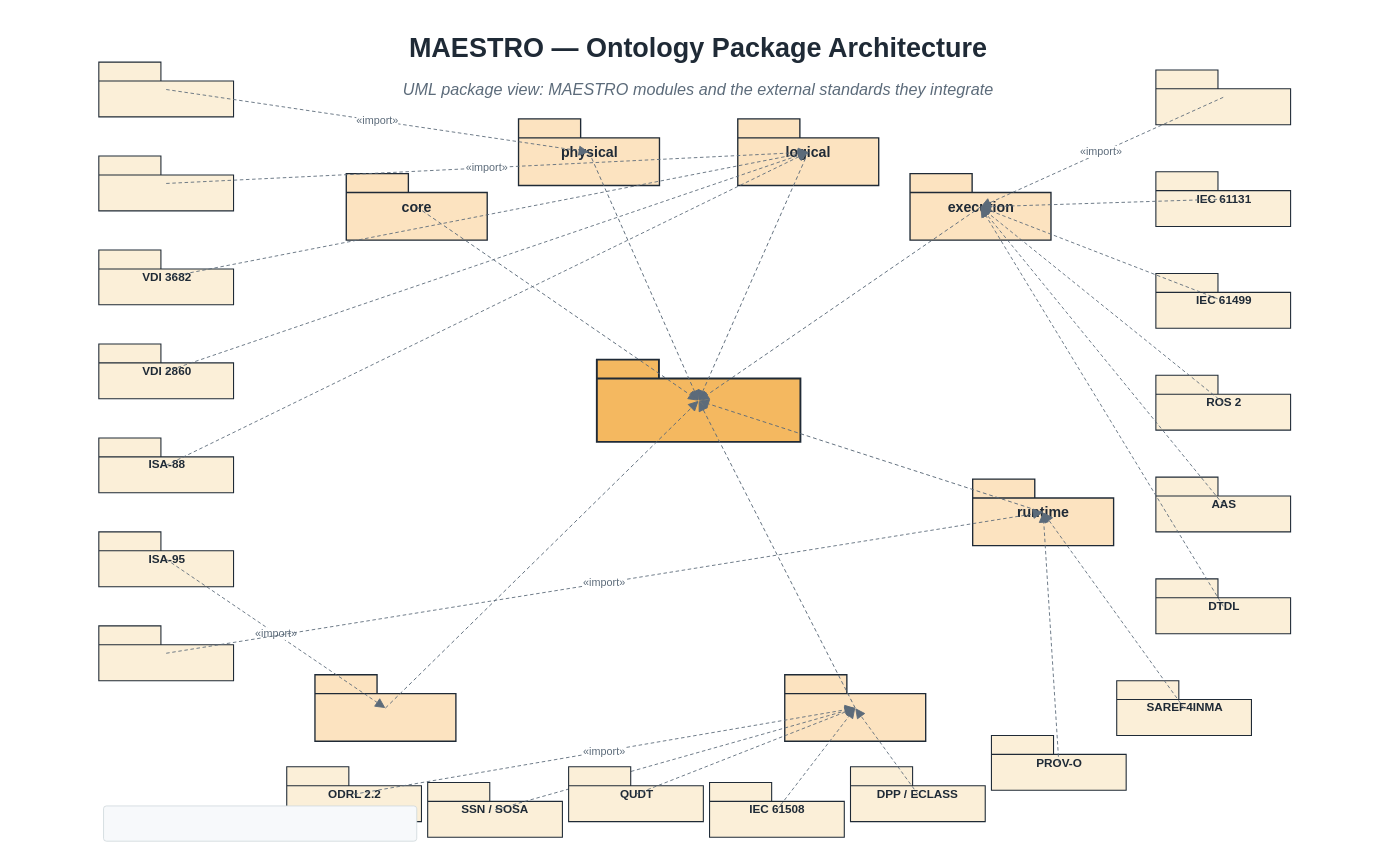
Some shapes in this 1396 by 865 pixel diagram are drawn without their labels. The centre of each missing label's shape, as x and y in pixels:
CAEX 62714: [165,89]
cross-cutting: [854,707]
DIN 8580: [165,183]
maestro.ttl: [698,400]
OPC UA: [1222,97]
PackML: [165,653]
reasoning: [385,707]
Solid borders · MAESTRO · Light fill · External · ⇢ «import»: [259,823]
